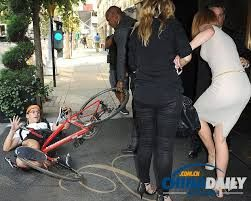fall: (0, 98, 69, 172)
